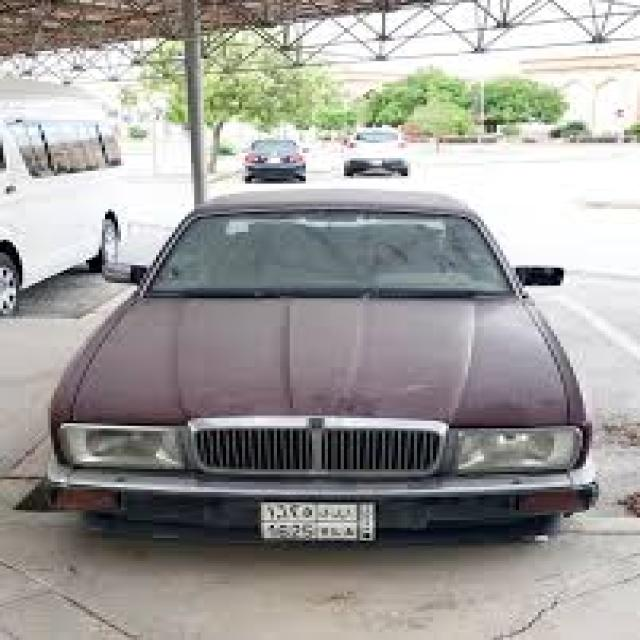license_plate: (258, 500, 379, 543)
